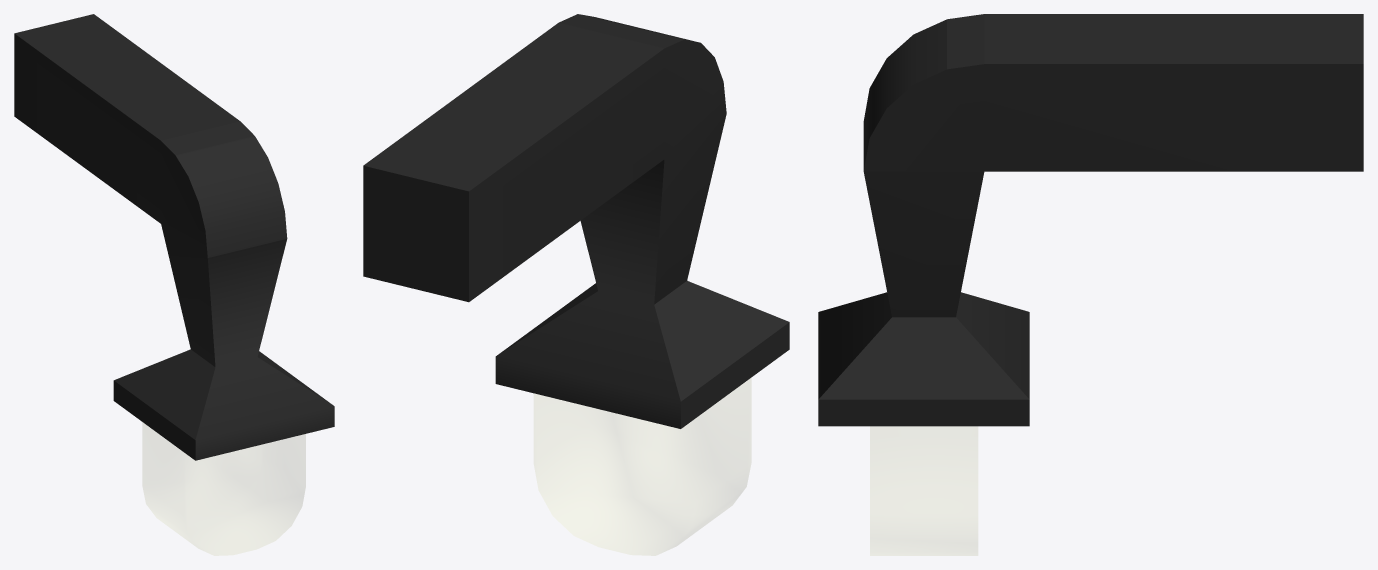
File: lantern.glb
The picture shows the model from 3 angles, left to right: view 1: azimuth 30°, elevation 25°; view 2: azimuth 150°, elevation 25°; view 3: azimuth 270°, elevation 25°; orthographic projection. The views are drawn at different scales.
Visible parts, largest first — view 1: Cube, Cube.001; view 2: Cube, Cube.001; view 3: Cube, Cube.001.
Part boxes in pixels (x1=…): Cube: x1=14, y1=14, x2=334, y2=460; Cube.001: x1=143, y1=423, x2=305, y2=555; Cube: x1=363, y1=14, x2=789, y2=428; Cube.001: x1=534, y1=379, x2=750, y2=555; Cube: x1=818, y1=14, x2=1363, y2=426; Cube.001: x1=870, y1=427, x2=977, y2=555.
Size of the model in its own units: 0.8305 by 2.22 by 2.18.
